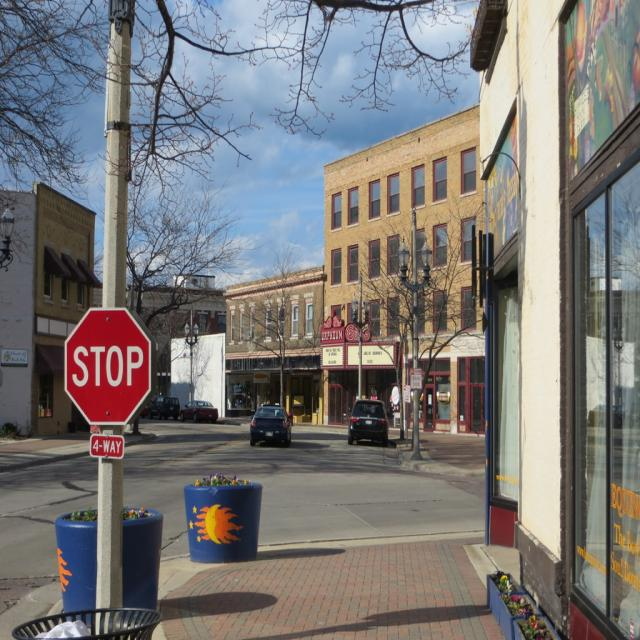Stop-sign: (64, 305, 153, 428)
